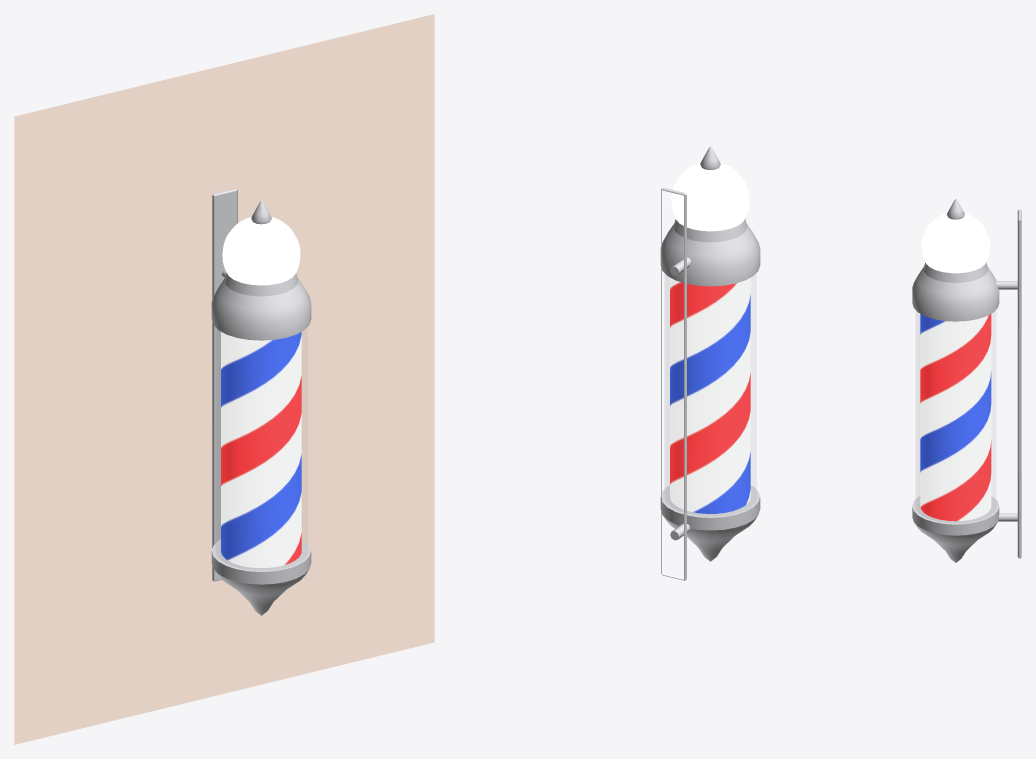
The model's file is barber_pole.glb.
The picture shows the model from 3 angles, left to right: view 1: azimuth 30°, elevation 25°; view 2: azimuth 150°, elevation 25°; view 3: azimuth 270°, elevation 25°; orthographic projection. The views are drawn at different scales.
Parts seen in each view (by area): view 1: barber_pole_Glow, barber_pole_LOD0; view 2: barber_pole_LOD0; view 3: barber_pole_LOD0.
Part boxes in pixels (x1,y1,x2,y2): barber_pole_Glow: (14,14,434,744); barber_pole_LOD0: (211,188,311,615); barber_pole_LOD0: (660,146,760,580); barber_pole_LOD0: (912,199,1021,562).
Size of what is drawn, in the model's own units: 0.84 by 1.2 by 0.216.
5 materials, 3 textured.
